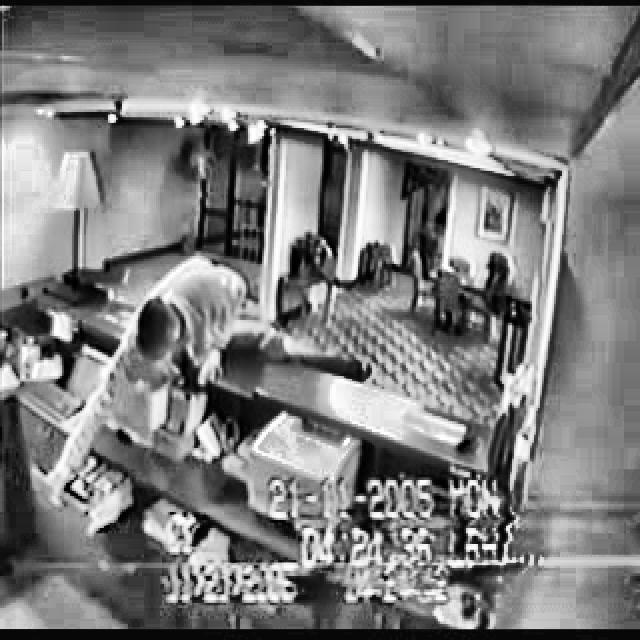burglary: (28, 252, 374, 538)
